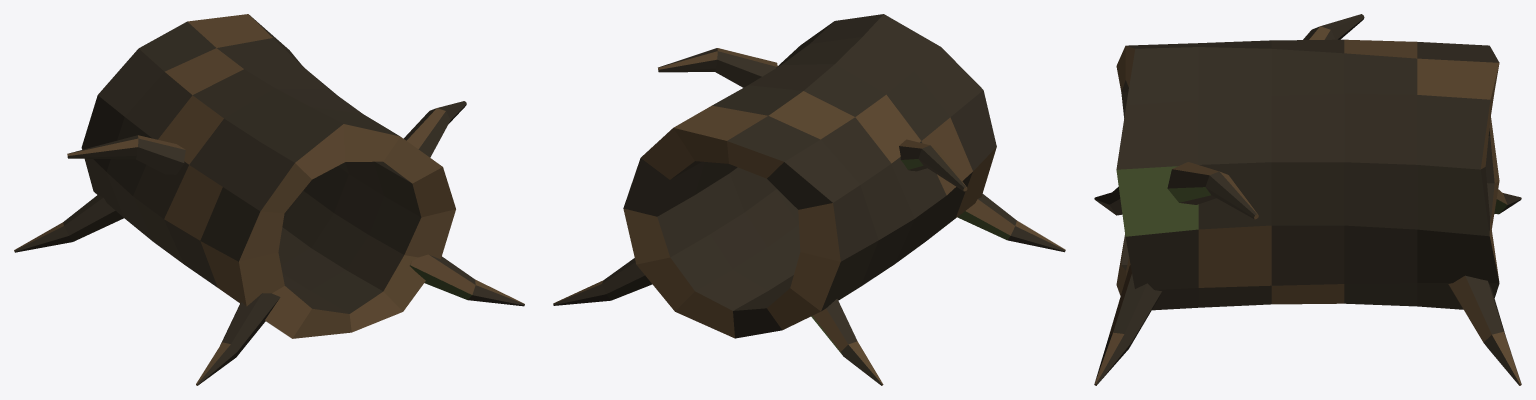
Rendered from wood_002c_root_flared_hollow.glb.
The picture shows the model from 3 angles, left to right: view 1: azimuth 30°, elevation 25°; view 2: azimuth 150°, elevation 25°; view 3: azimuth 270°, elevation 25°; orthographic projection. The views are drawn at different scales.
Parts seen in each view (by area): view 1: wood_002c_root_flared_hollow__mesh; view 2: wood_002c_root_flared_hollow__mesh; view 3: wood_002c_root_flared_hollow__mesh.
Boxes of the visible parts, bbox=[...] form: wood_002c_root_flared_hollow__mesh: bbox=[14, 14, 524, 385]; wood_002c_root_flared_hollow__mesh: bbox=[553, 14, 1065, 385]; wood_002c_root_flared_hollow__mesh: bbox=[1094, 14, 1521, 385].
Bounding box in the file's own units: 5.55 × 3.22 × 4.99.
